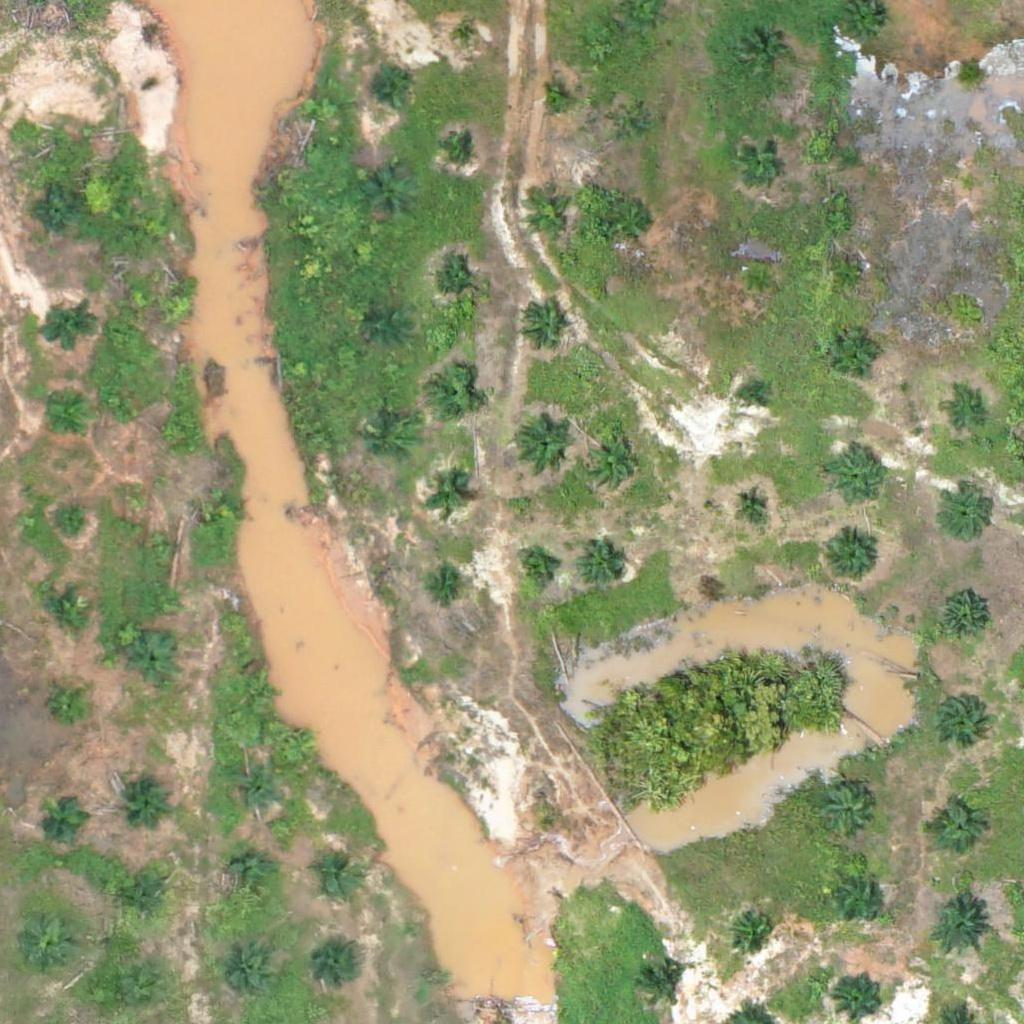Kelapa_Sawit: (215, 942, 278, 1005), (929, 898, 992, 961), (580, 431, 643, 494), (22, 913, 84, 976), (820, 527, 882, 590), (824, 445, 886, 508), (514, 413, 576, 476), (610, 196, 660, 247), (929, 803, 979, 854), (940, 489, 990, 540), (823, 788, 873, 839), (834, 871, 884, 922), (834, 969, 884, 1020), (937, 590, 987, 641), (830, 326, 880, 377), (39, 584, 89, 635), (523, 190, 573, 241), (316, 941, 366, 991), (123, 772, 173, 822), (41, 797, 91, 847), (230, 767, 280, 817), (129, 636, 179, 686), (226, 852, 276, 902), (312, 851, 362, 901), (934, 693, 984, 743), (728, 905, 778, 955), (637, 961, 687, 1011), (120, 876, 170, 926), (431, 261, 481, 311), (429, 370, 479, 420), (518, 303, 568, 353), (578, 539, 628, 589), (43, 304, 93, 354), (41, 394, 91, 444), (738, 136, 788, 186), (738, 29, 788, 79), (365, 169, 415, 219), (34, 189, 84, 239), (367, 420, 417, 470), (943, 395, 981, 433), (238, 674, 276, 712), (50, 685, 88, 723), (428, 475, 466, 513), (429, 566, 467, 604), (516, 549, 554, 587), (142, 526, 180, 564), (152, 413, 190, 451), (158, 288, 196, 326), (369, 70, 407, 108), (735, 486, 772, 524), (206, 488, 243, 526), (739, 262, 777, 299), (613, 107, 651, 144), (369, 308, 406, 346), (832, 256, 869, 294), (52, 507, 89, 544), (741, 383, 766, 408), (542, 86, 567, 111), (454, 25, 479, 50), (448, 137, 473, 162), (957, 173, 982, 198)
